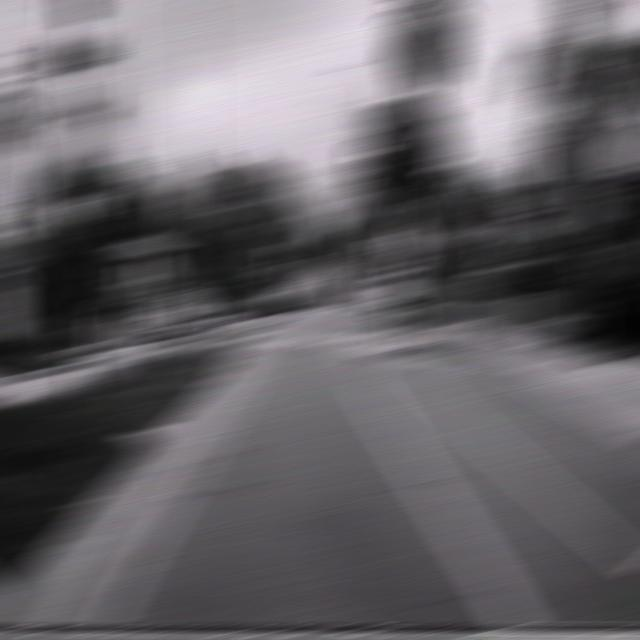pedestrianCrossing: (386, 220, 425, 260)
yield: (367, 234, 397, 255), (270, 240, 298, 260)
